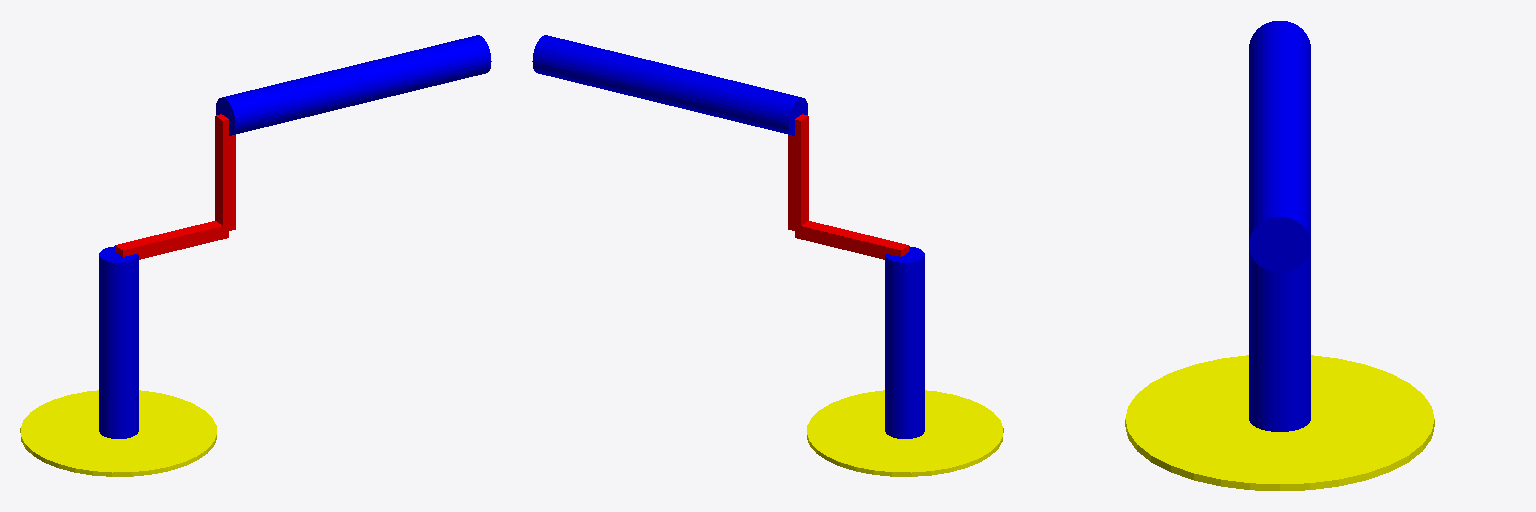
robot.urdf — simple_robot:
<robot name="simple_robot">
  <link name="base_link">
    <visual>
      <geometry>
        <cylinder length="0.01" radius="0.2"/>
      </geometry>
      <origin rpy="0 0 0" xyz="0 0 0"/>
      <material name="generic">
        <color rgba="1 1 0 1"/>
      </material>
    </visual>
  </link>
  <joint name="joint1" type="revolute">
    <parent link="base_link"/>
    <child link="link1"/>
    <origin xyz="0 0 0.0"/>
    <axis xyz="0 0 1"/>
    <limit effort="300" velocity="0.1" lower="-3.14" upper="3.14"/>
    <dynamics damping="50" friction="1"/>
  </joint>
  <link name="link1">
    <visual>
      <geometry>
        <cylinder length="0.4" radius="0.04"/>
      </geometry>
      <origin rpy="0 0 0" xyz="0 0 0.2"/>
      <material name="generic_2">
        <color rgba="0 0 1 1"/>
      </material>
    </visual>
  </link>
  <joint name="joint2" type="prismatic">
    <parent link="link1"/>
    <child link="link2"/>
    <origin xyz="0 0 0.4"/>
    <axis xyz="1 0 0"/>
    <limit effort="300" velocity="0.1" lower="-0.2" upper="0"/>
    <dynamics damping="50" friction="1"/>
  </joint>
  <link name="link2">
    <visual>
      <geometry>
        <box size="0.25 0.03 0.03"/>
      </geometry>
      <origin rpy="0 0 0" xyz="0.125 0 0"/>
      <material name="generic_5">
        <color rgba="1 0 0 1"/>
      </material>
    </visual>
  </link>
<joint name="joint3" type="prismatic">
    <parent link="link2"/>
    <child link="link3"/>
    <origin xyz="0.25 0 0"/>
    <axis xyz="0 0 -1"/>
    <limit effort="300" velocity="0.1" lower="0" upper="0.2"/>
    <dynamics damping="50" friction="1"/>
  </joint>
  <link name="link3">
    <visual>
      <geometry>
        <box size="0.25 0.03 0.03"/>
      </geometry>
      <origin rpy="0 1.57079 0" xyz="0 0 0.125"/>
      <material name="generic_5">
        <color rgba="1 0 0 1"/>
      </material>
    </visual>
  </link>
<joint name="joint4" type="revolute">
    <parent link="link3"/>
    <child link="link4"/>
    <origin xyz="0 0 0.25"/>
    <axis xyz="0 -1 0"/>
    <limit effort="300" velocity="0.1" lower="-3.14" upper="3.14"/>
    <dynamics damping="50" friction="1"/>
  </joint>
  <link name="link4">
    <visual>
      <geometry>
        <cylinder length="0.3" radius="0.04"/>
      </geometry>
      <origin rpy="0 1.57079 0" xyz="0.15 0 0"/>
      <material name="generic_2">
        <color rgba="0 0 1 1"/>
      </material>
    </visual>
  </link>





<joint name="joint5" type="revolute">
    <parent link="link4"/>
    <child link="link5"/>
    <origin xyz="0.3 0 0"/>
    <axis xyz="0 -1 0"/>
    <limit effort="300" velocity="0.1" lower="-3.14" upper="3.14"/>
    <dynamics damping="50" friction="1"/>
  </joint>
  <link name="link5">
    <visual>
      <geometry>
        <cylinder length="0.3" radius="0.04"/>
      </geometry>
      <origin rpy="0 1.57079 0" xyz="0.15 0 0"/>
      <material name="generic_2">
        <color rgba="0 0 1 1"/>
      </material>
    </visual>
  </link>



</robot>

--- What the picture shows (computed from the rendered views, not written in the file) ---
The picture shows the robot from 3 angles, left to right: view 1: azimuth 30°, elevation 25°; view 2: azimuth 150°, elevation 25°; view 3: azimuth 270°, elevation 25°; orthographic projection.
Robot: simple_robot — 6 links, 5 joints (3 revolute, 2 prismatic); root link base_link; default pose: all joints at 0.
Visible links, largest first — view 1: base_link, link1, link4, link5, link3, link2; view 2: base_link, link1, link4, link5, link3, link2; view 3: base_link, link1, link5, link4.
Link boxes in pixels (x1,y1,x2,y2): base_link: (20,390,216,476); link1: (99,246,138,438); link4: (216,66,362,135); link5: (351,35,491,103); link3: (215,114,235,232); link2: (115,221,228,259); base_link: (807,390,1003,476); link1: (885,246,924,438); link4: (661,66,807,135); link5: (532,35,672,103); link3: (788,114,808,230); link2: (795,221,908,259); base_link: (1125,355,1434,490); link1: (1249,249,1310,431); link5: (1249,119,1310,272); link4: (1249,21,1310,141).
Bounding box of the posed robot: 1.05 × 0.4 × 0.695 m (x, y, z).
Geometry: primitives only (box / cylinder / sphere), no mesh files.